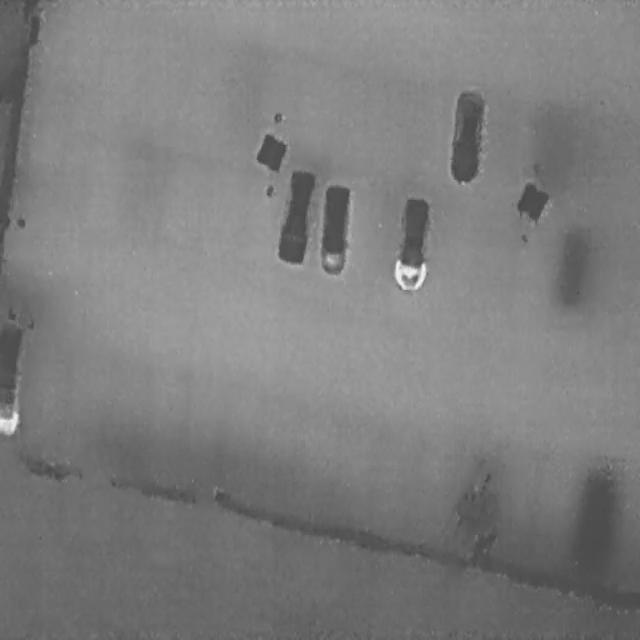Car: (389, 192, 434, 292), (273, 166, 317, 265), (447, 86, 485, 182), (318, 181, 352, 274), (0, 321, 22, 434)
